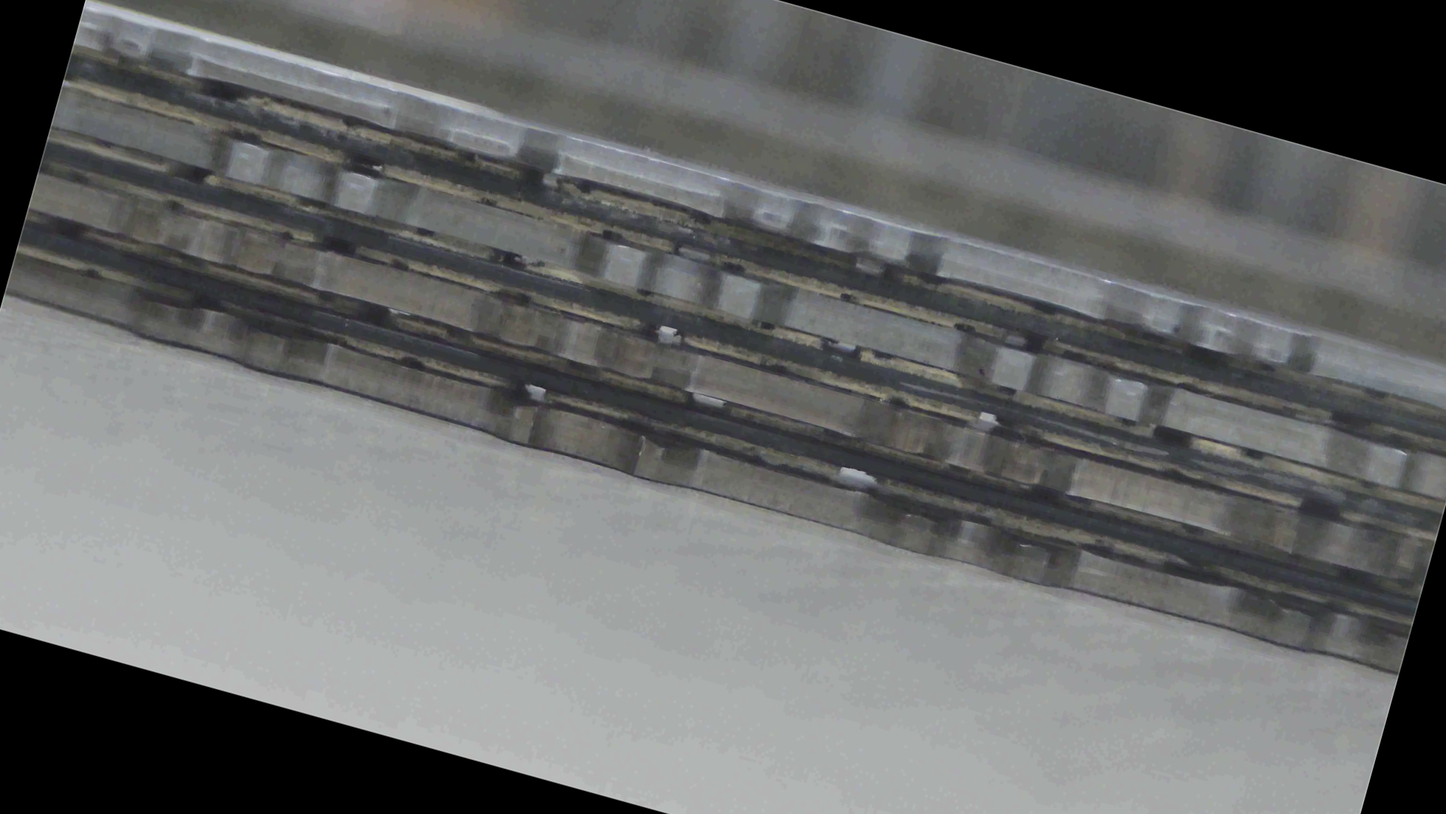Black metal plate: (5, 256, 1407, 671)
shiney metal plate: (0, 219, 1266, 814), (21, 183, 1446, 397), (0, 297, 1424, 460)
spacer: (4, 283, 1438, 504), (3, 213, 1445, 271), (0, 319, 1445, 350)
